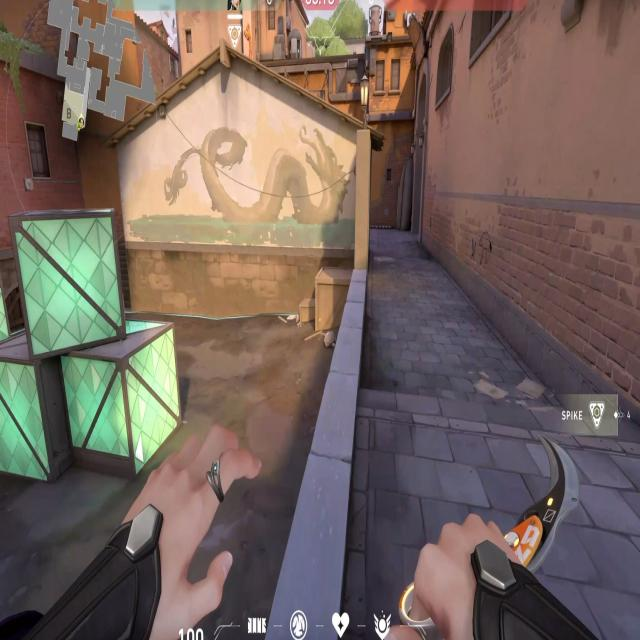B_Site_Box: (0, 185, 198, 486)
Throwables: (435, 18, 457, 109)
